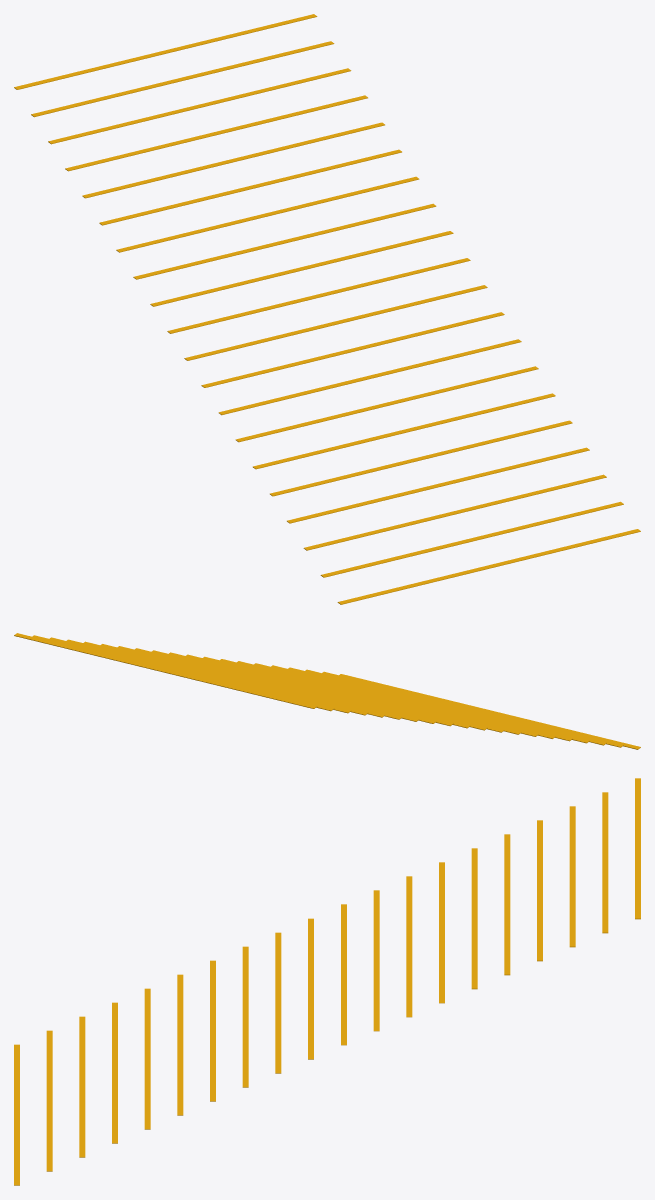
File: gteki_ik_stair_n20_r1415_t299_w3055_nosing.glb
3 views of the same model, one above another, from view 1: azimuth 30°, elevation 25°; view 2: azimuth 150°, elevation 25°; view 3: azimuth 270°, elevation 25° (orthographic). The views are drawn at different scales.
Parts seen in each view (by area): view 1: VIS_body; view 2: VIS_body; view 3: VIS_body.
Boxes of the visible parts, x1,y1,x2,y2 form: VIS_body: [14, 14, 640, 604]; VIS_body: [14, 633, 640, 749]; VIS_body: [14, 778, 640, 1185].
Size of the model in its own units: 3.04 by 2.69 by 5.74.
Materials: 1 (1 with a texture image).
